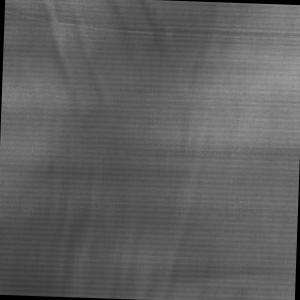Wrinkle: (1, 1, 293, 300)
